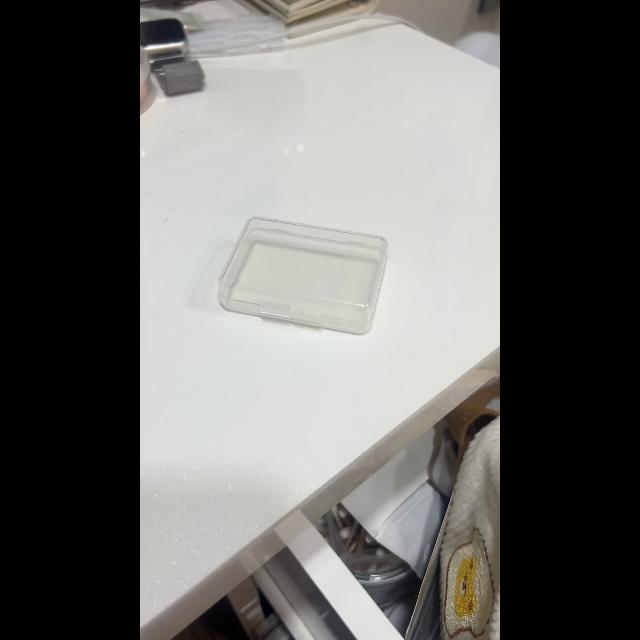clean: (216, 216, 390, 334)
